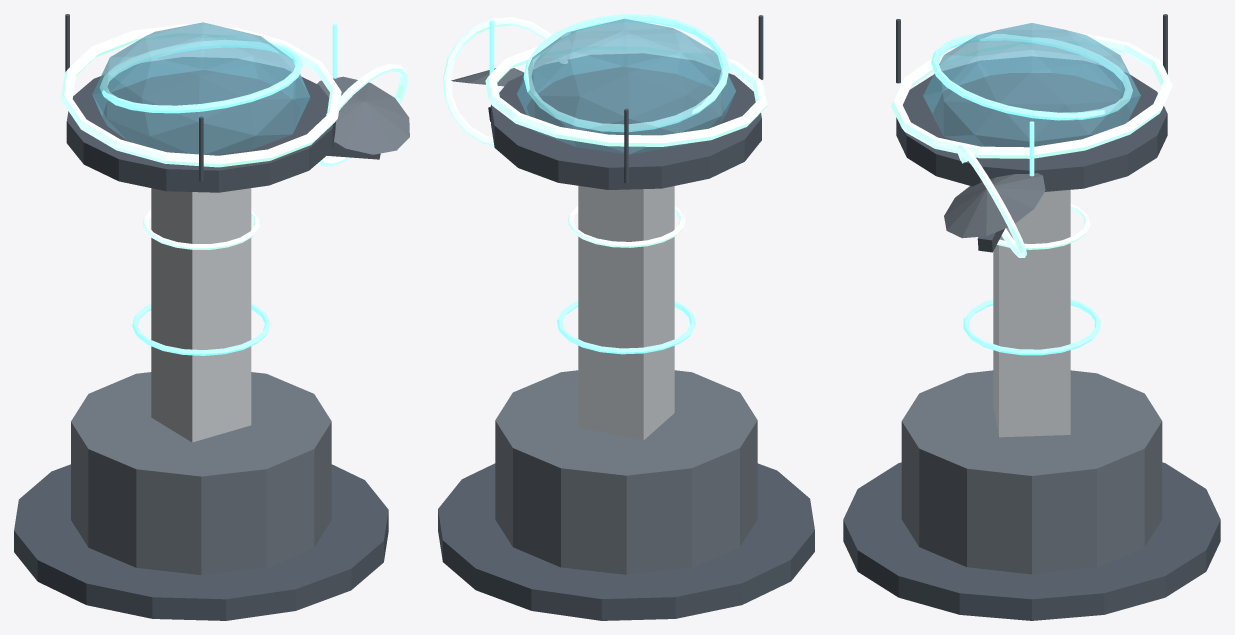
The model's file is research-observatory-lod2.30297c7db82c.glb.
3 views of the same model, side by side, from view 1: azimuth 30°, elevation 25°; view 2: azimuth 150°, elevation 25°; view 3: azimuth 270°, elevation 25° (orthographic).
Visible parts, largest first — view 1: research_drum, observatory_base, crown_lower, research_spine, observation_chamber, crown_outer_ring, sensor_dish_core, crown_sensor_ring, spine_sensor_ring_1, sensor_dish_rim, spine_sensor_ring_2; view 2: research_drum, observatory_base, crown_lower, research_spine, observation_chamber, crown_outer_ring, crown_sensor_ring, sensor_dish_rim, spine_sensor_ring_1, spine_sensor_ring_2, sensor_dish_core; view 3: research_drum, observatory_base, crown_lower, observation_chamber, research_spine, crown_outer_ring, sensor_dish_core, crown_sensor_ring, spine_sensor_ring_1, sensor_dish_rim, spine_sensor_ring_2.
Part boxes in pixels (x1,y1,x2,y2): research_drum: (71,372,331,575); observatory_base: (14,464,388,620); crown_lower: (66,57,335,192); research_spine: (151,188,251,442); observation_chamber: (92,22,310,155); crown_outer_ring: (61,24,341,167); sensor_dish_core: (317,76,409,154); crown_sensor_ring: (99,39,302,113); spine_sensor_ring_1: (132,303,270,355); sensor_dish_rim: (317,63,407,166); spine_sensor_ring_2: (143,210,259,249); research_drum: (495,370,757,574); observatory_base: (438,463,814,620); crown_lower: (491,53,761,189); research_spine: (578,186,674,440); observation_chamber: (517,18,735,154); crown_outer_ring: (485,38,767,146); crown_sensor_ring: (523,14,729,132); sensor_dish_rim: (442,17,567,146); spine_sensor_ring_1: (557,301,695,354); spine_sensor_ring_2: (567,206,685,247); sensor_dish_core: (451,68,524,86); research_drum: (901,370,1162,574); observatory_base: (843,462,1220,620); crown_lower: (896,56,1167,191); observation_chamber: (923,23,1140,147); research_spine: (993,190,1070,437); crown_outer_ring: (891,33,1172,158); sensor_dish_core: (944,173,1045,238); crown_sensor_ring: (931,32,1132,120); spine_sensor_ring_1: (963,299,1100,355); sensor_dish_rim: (957,145,1026,257); spine_sensor_ring_2: (997,204,1090,249).
Bounding box in the file's own units: 7.71 × 10.43 × 7.1.
